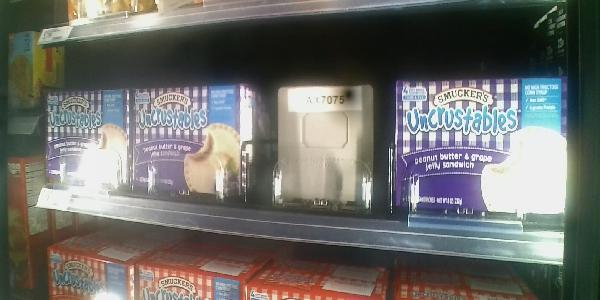icecream: (391, 77, 568, 229), (129, 86, 249, 205), (42, 87, 132, 197)
